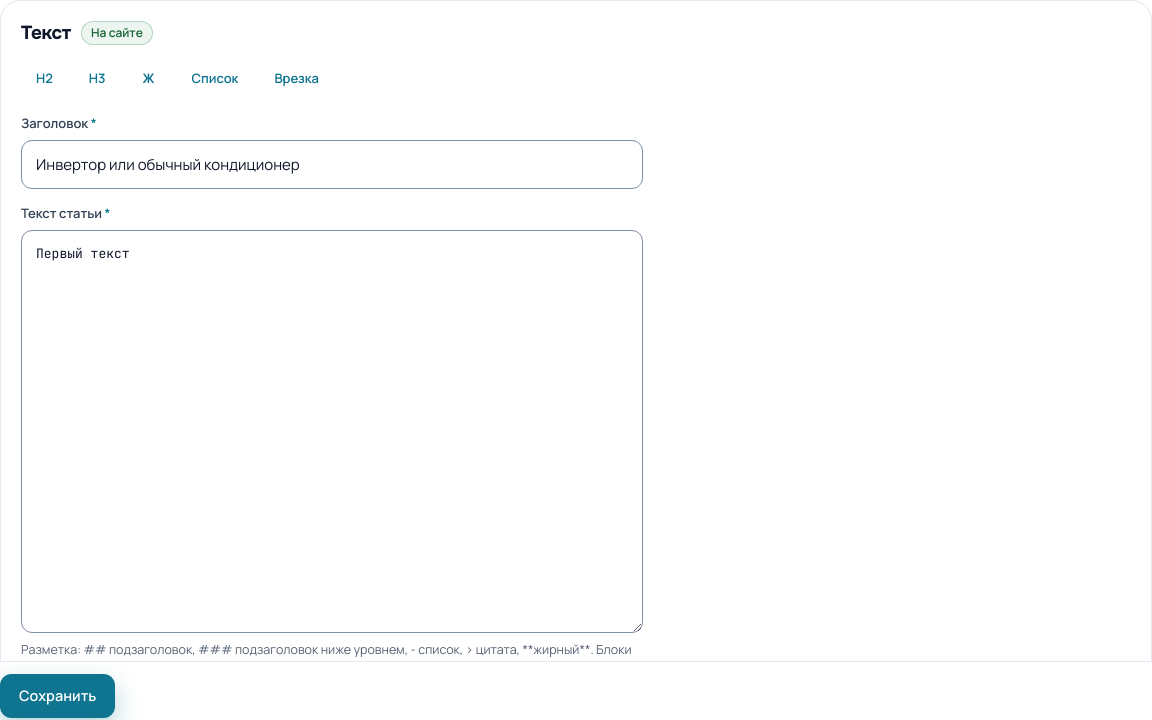
Предпросмотр статьи › рисуется переданным слотом и обновляется по ходу правки
Type " и добавка" into the text box labelled "Текст статьи *".
click(332, 432); type(" и добавка")  # box x1=21 y1=230 x2=643 y2=633
(page scrolled)
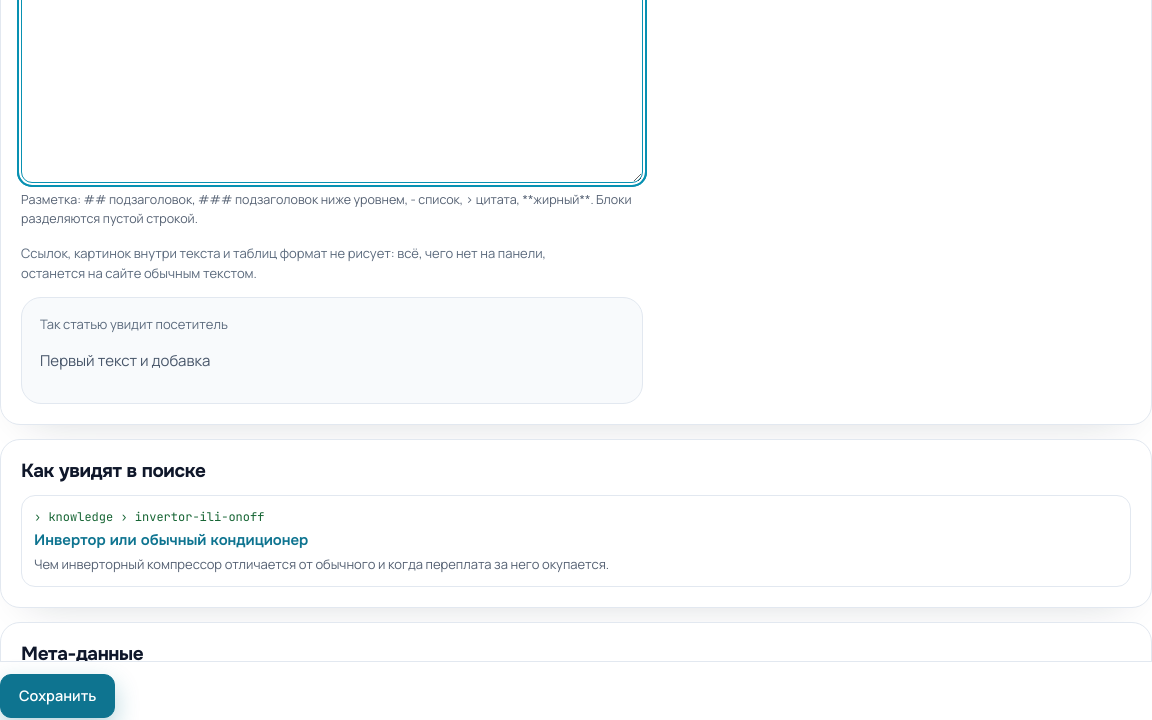
Check: the text with test id "preview" reads "Первый текст и добавка", box x1=40 y1=350 x2=210 y2=371
